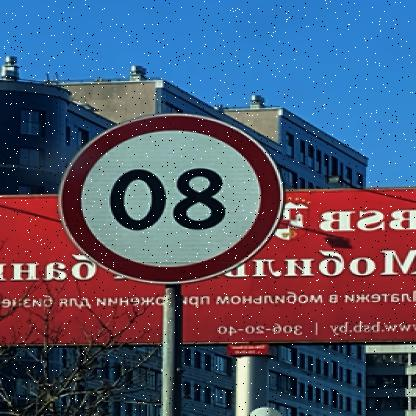speedlimit: (60, 113, 286, 283)
